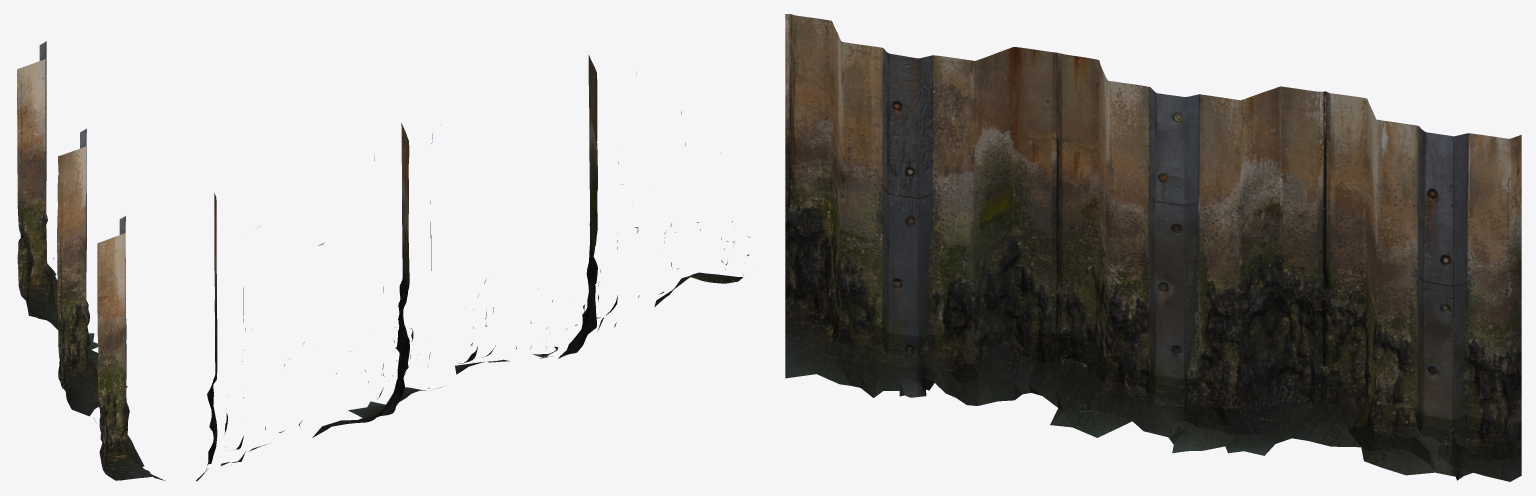
3 renders of one model, left to right at view 1: azimuth 30°, elevation 25°; view 2: azimuth 150°, elevation 25°; view 3: azimuth 270°, elevation 25°, orthographic. The views are drawn at different scales.
Size of the model in its own units: 1.81 by 2.11 by 4.18.
2 materials, 2 textured.
